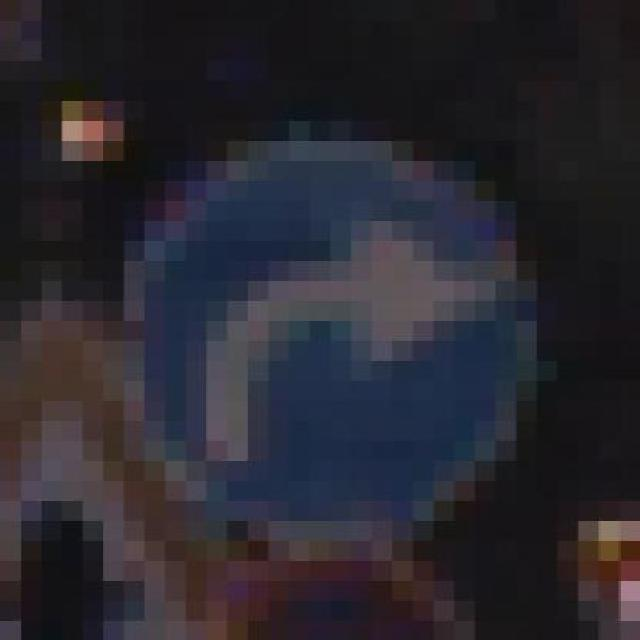Turn right ahead: (103, 120, 557, 560)
